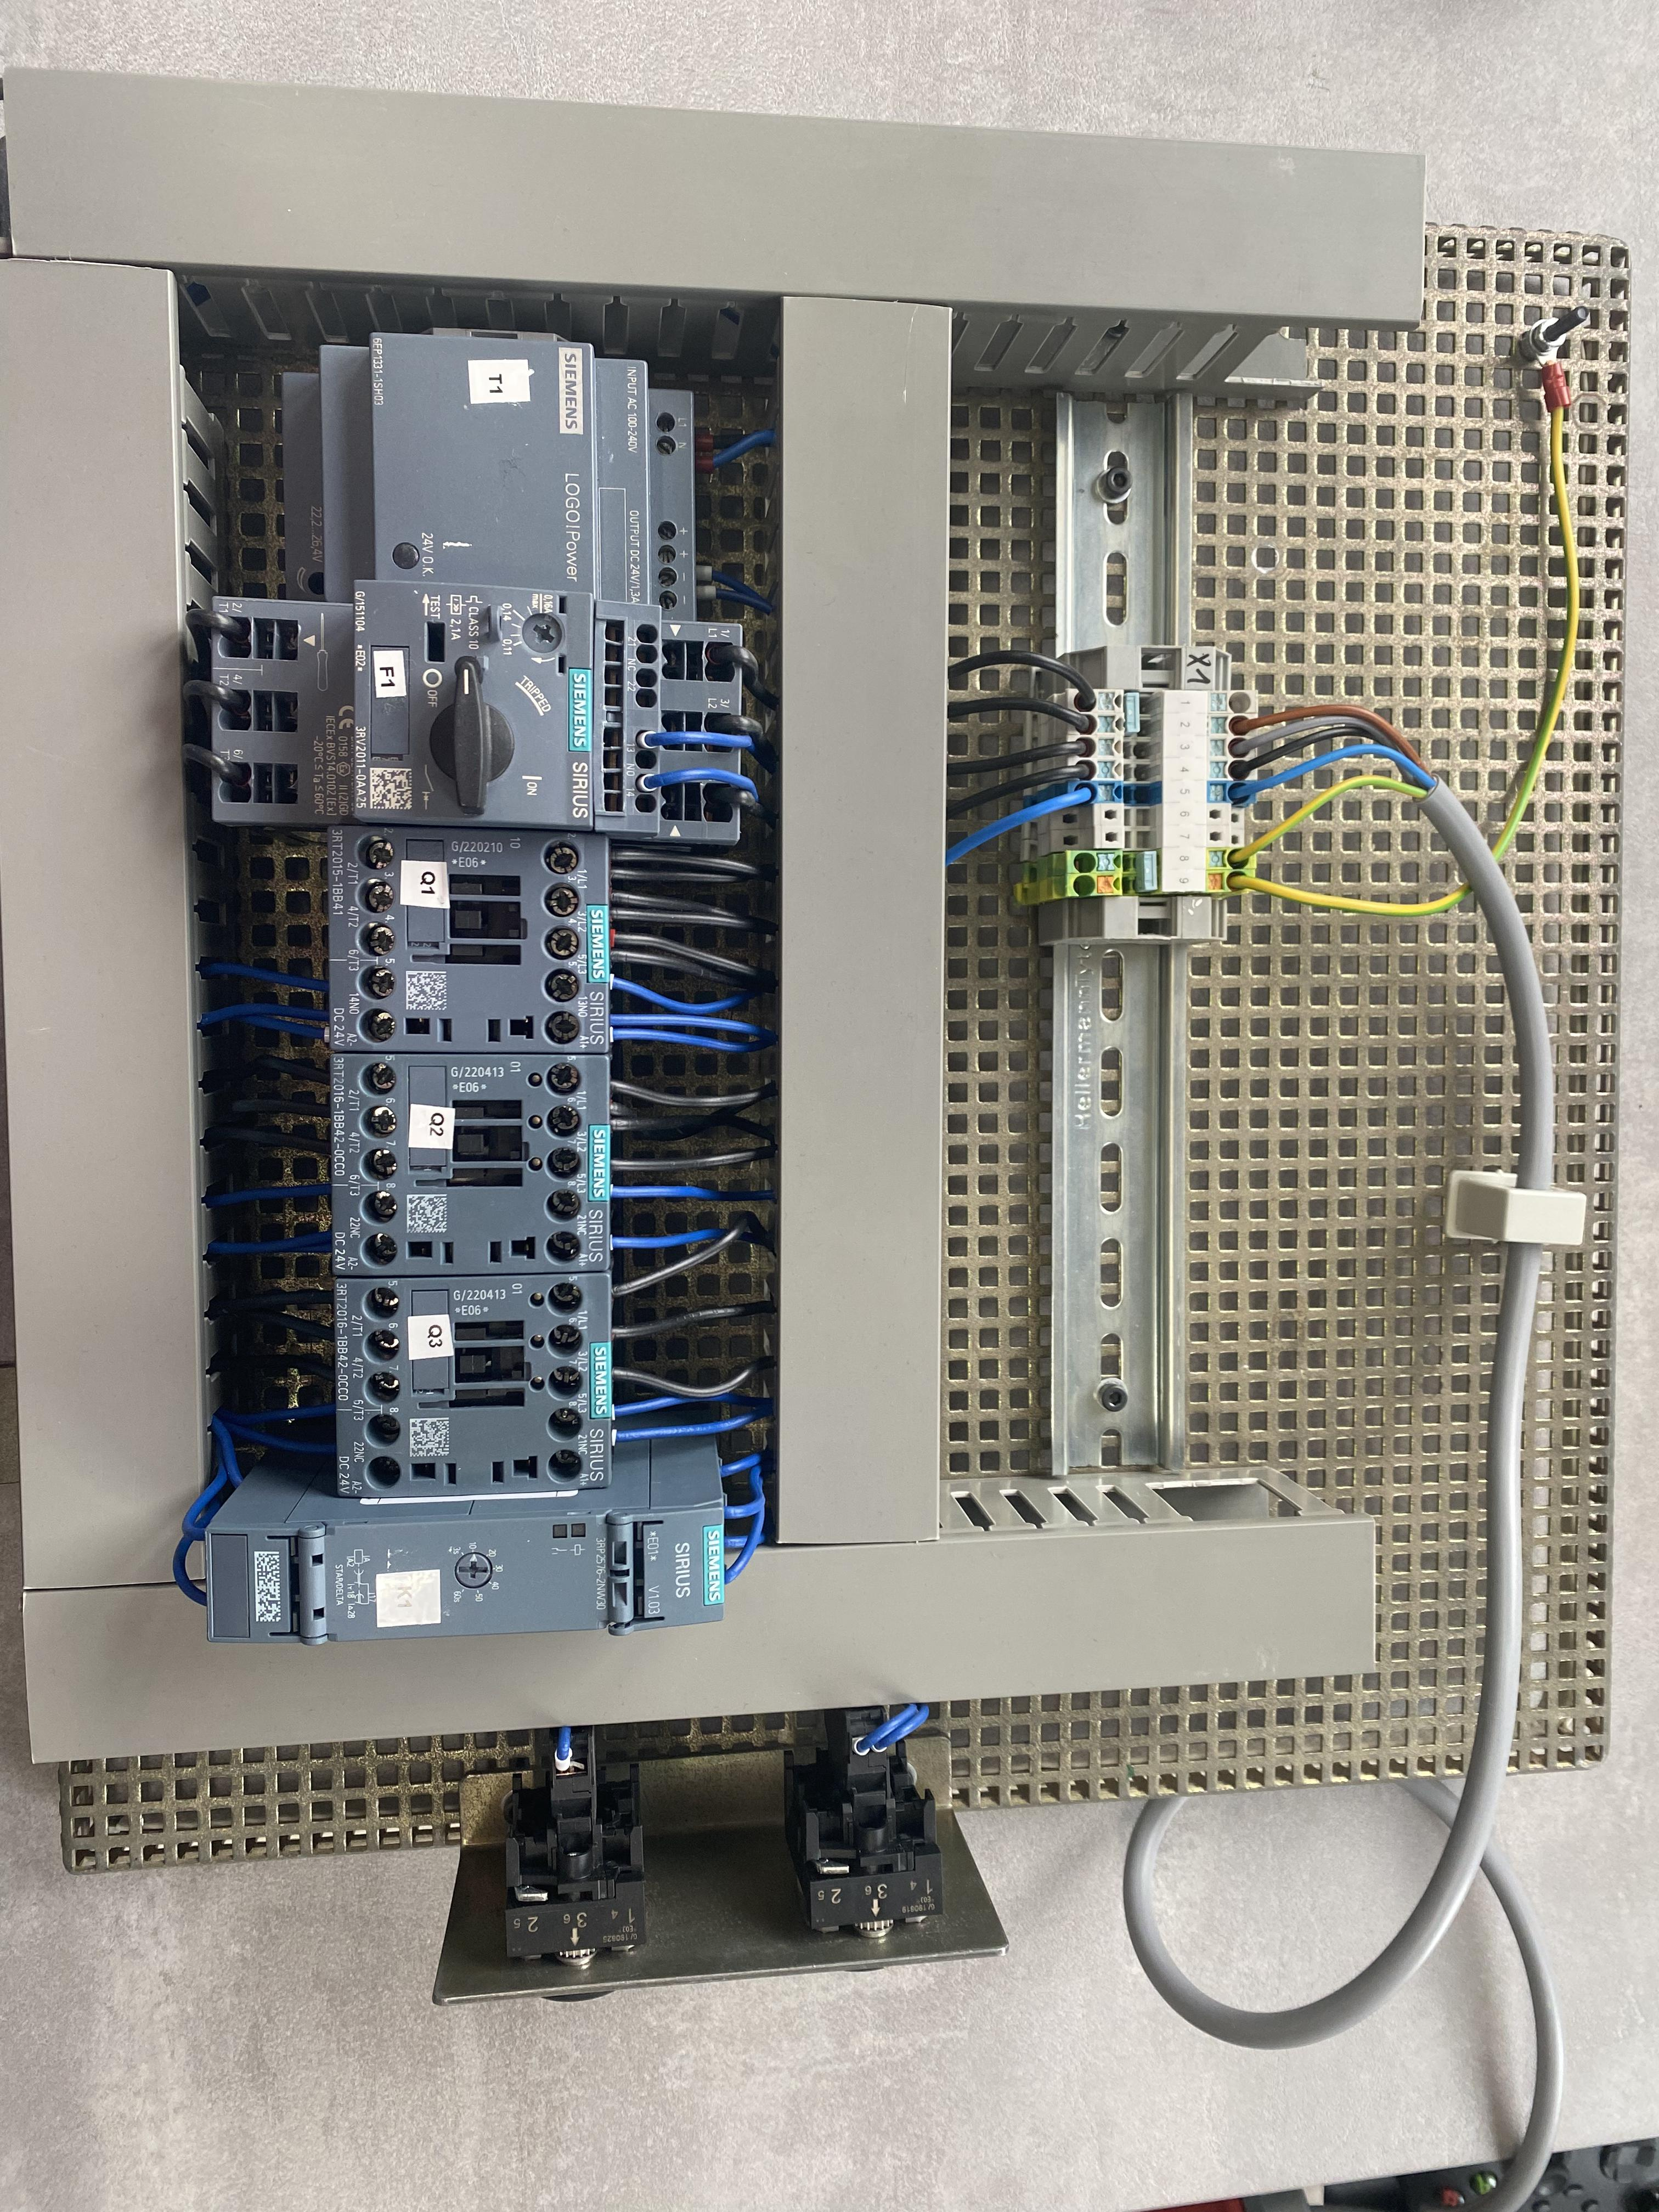F1: (213, 597, 742, 846)
K1: (204, 1508, 732, 1649)
Q: (322, 831, 613, 1055)
Q2: (331, 1059, 613, 1277)
Q3: (336, 1273, 615, 1498)
T1: (282, 338, 699, 624)
X1: (1042, 648, 1258, 944)
